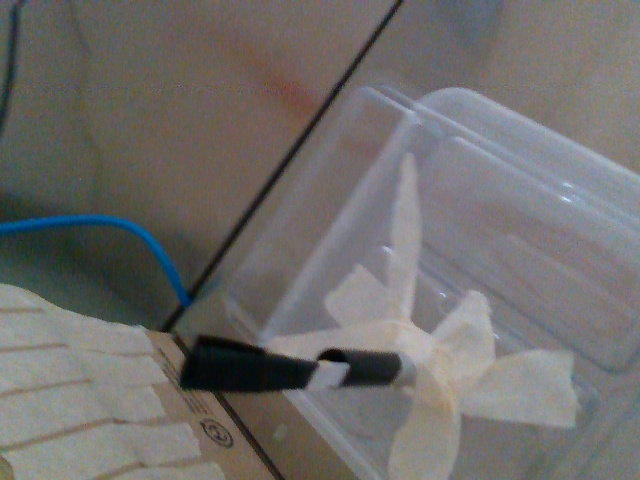test_strip: (176, 332, 348, 395)
